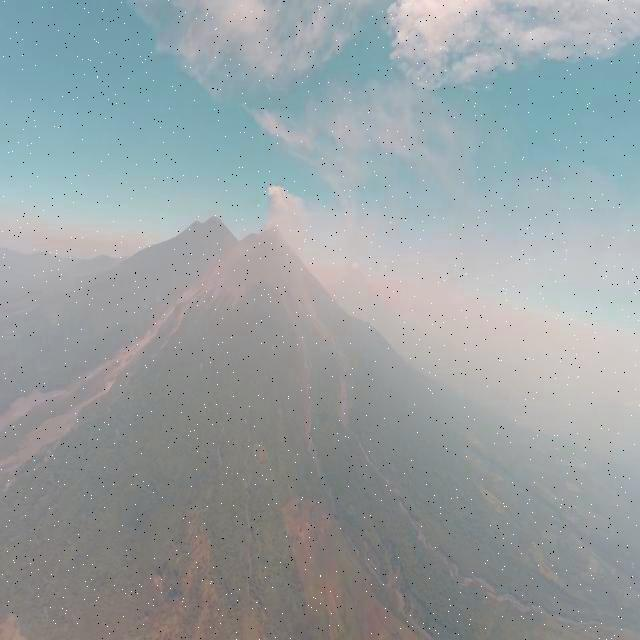Plume: (266, 180, 304, 230)
Summit: (264, 223, 285, 236)
